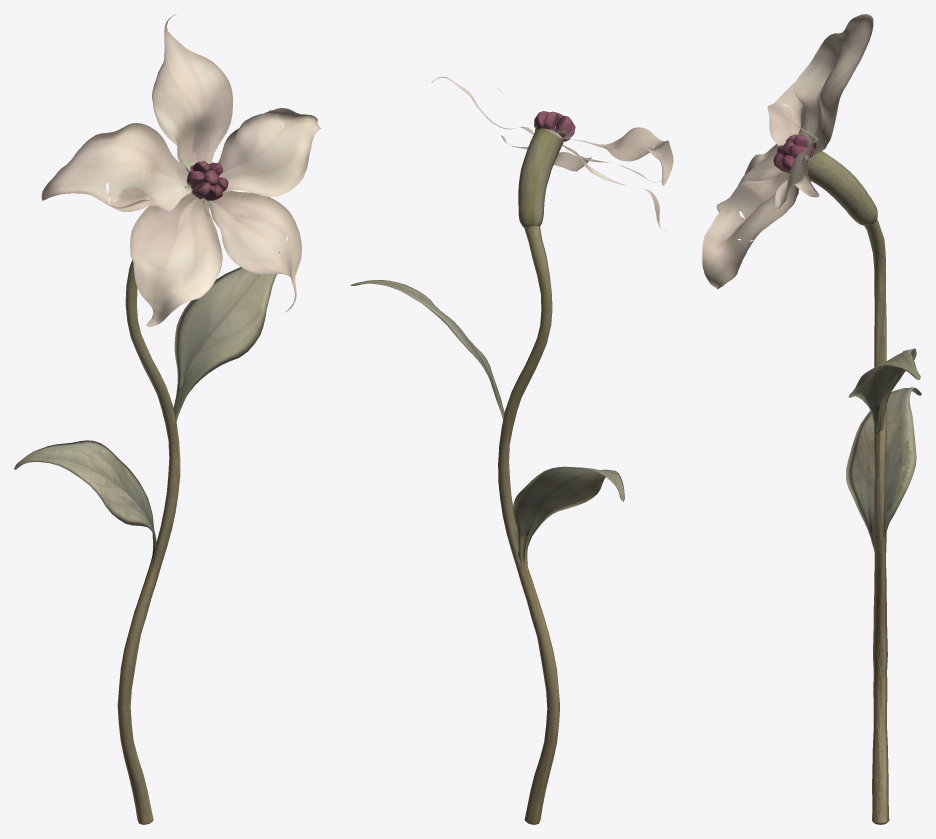
The model's file is botanical-flower-optimized.glb.
3 views of the same model, side by side, from view 1: azimuth 30°, elevation 25°; view 2: azimuth 150°, elevation 25°; view 3: azimuth 270°, elevation 25° (orthographic). The views are drawn at different scales.
Visible parts, largest first — view 1: d0b655f1_3424_416e_8082_15b81c8e34ae; view 2: d0b655f1_3424_416e_8082_15b81c8e34ae; view 3: d0b655f1_3424_416e_8082_15b81c8e34ae.
Part boxes in pixels (bbox=[...]): d0b655f1_3424_416e_8082_15b81c8e34ae: bbox=[14, 14, 321, 824]; d0b655f1_3424_416e_8082_15b81c8e34ae: bbox=[350, 76, 673, 824]; d0b655f1_3424_416e_8082_15b81c8e34ae: bbox=[702, 14, 921, 824].
Size of the model in its own units: 0.3677 by 0.9995 by 0.2417.
Materials: 1 (1 with a texture image).
